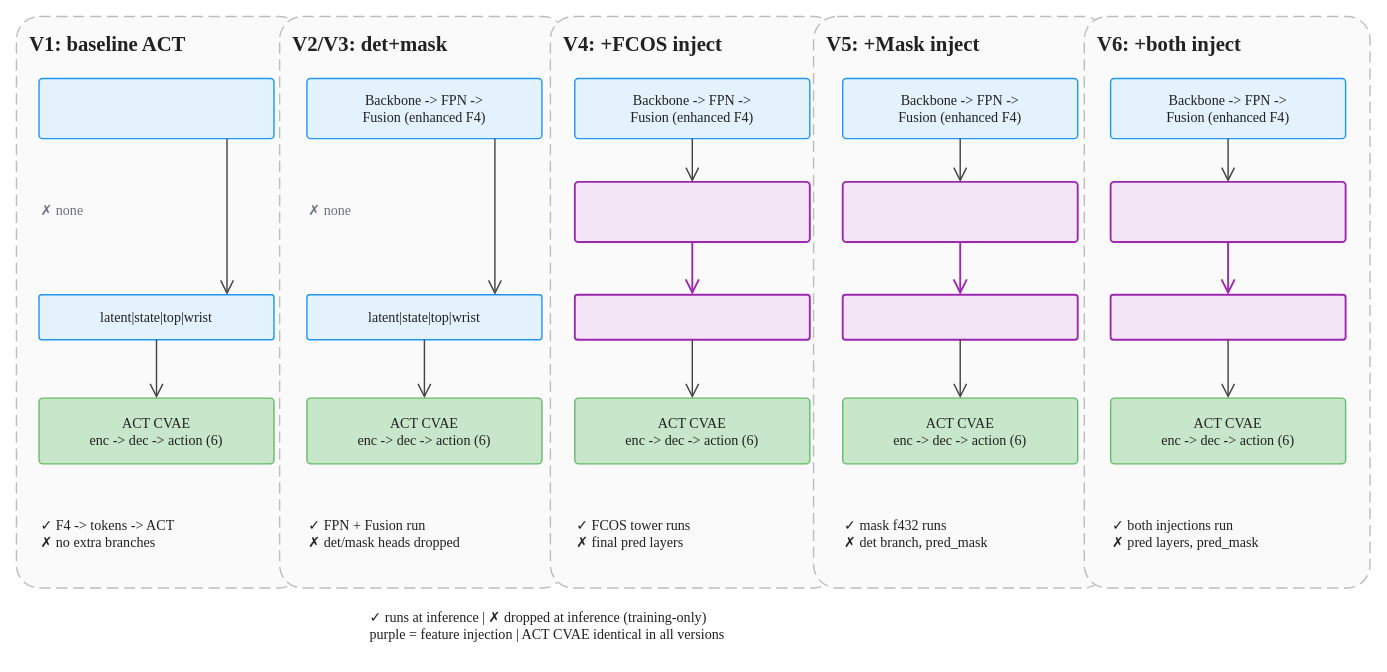
Some shapes in this 1387 by 672 pixel diagram are drawn without their labels. Here are the shapes that lost their labels. From the top down, the centre of each, then its label:
At [156,108]: "Backbone F4 (top + wrist)".
At [691,211]: "✓ FCOS injection cls+reg gate -> 300 tok".
At [959,211]: "✓ Mask injection f432 pool -> 300 tok".
At [1227,211]: "✓ FCOS + Mask injection 2 x 300 tokens".
At [691,316]: "latent|state|top|wrist +fcos".
At [959,316]: "latent|state|top|wrist +mask".
At [1227,316]: "latent|state|top|wrist fcos|mask".
